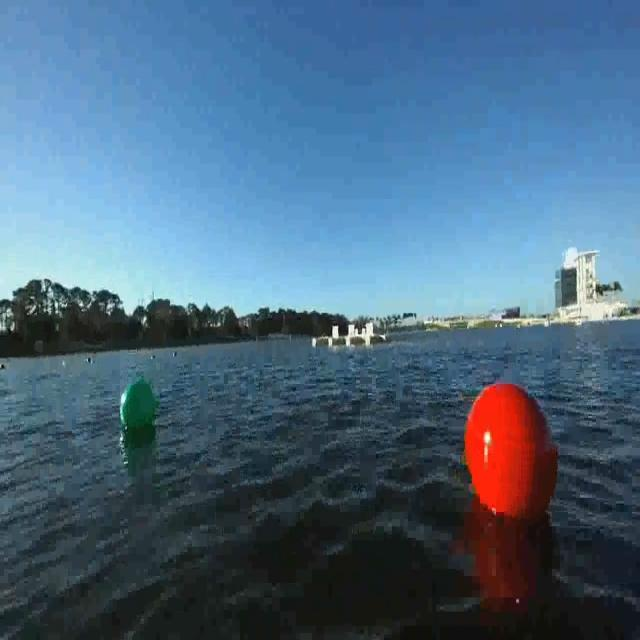green-buoy: (120, 376, 162, 432)
red-buoy: (459, 378, 560, 522)
